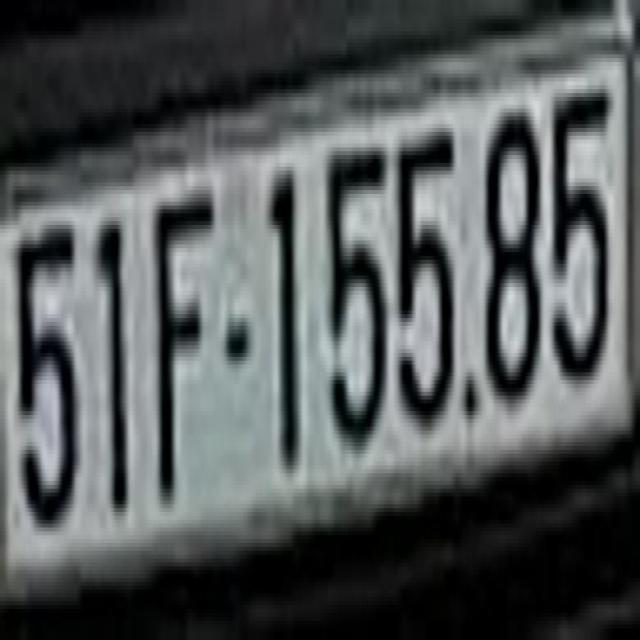1: (266, 159, 301, 489), (93, 209, 128, 516)
5: (319, 144, 390, 438), (15, 229, 80, 535), (552, 89, 614, 396), (396, 116, 450, 419)
8: (484, 101, 539, 407)
F: (156, 182, 217, 520)
